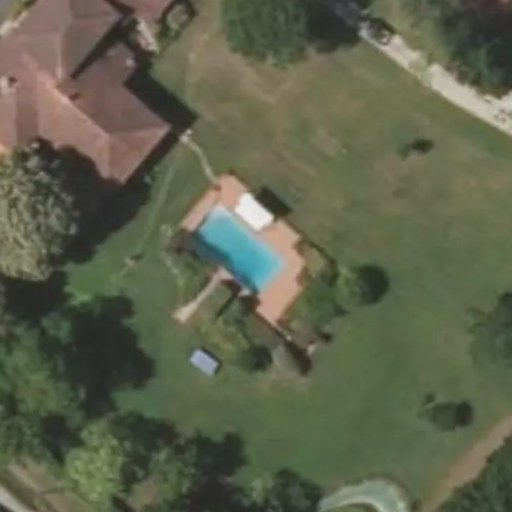pool: (204, 230, 307, 254)
